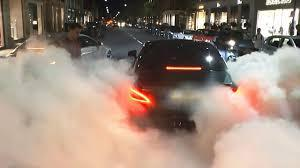smoke: (0, 28, 300, 168)
